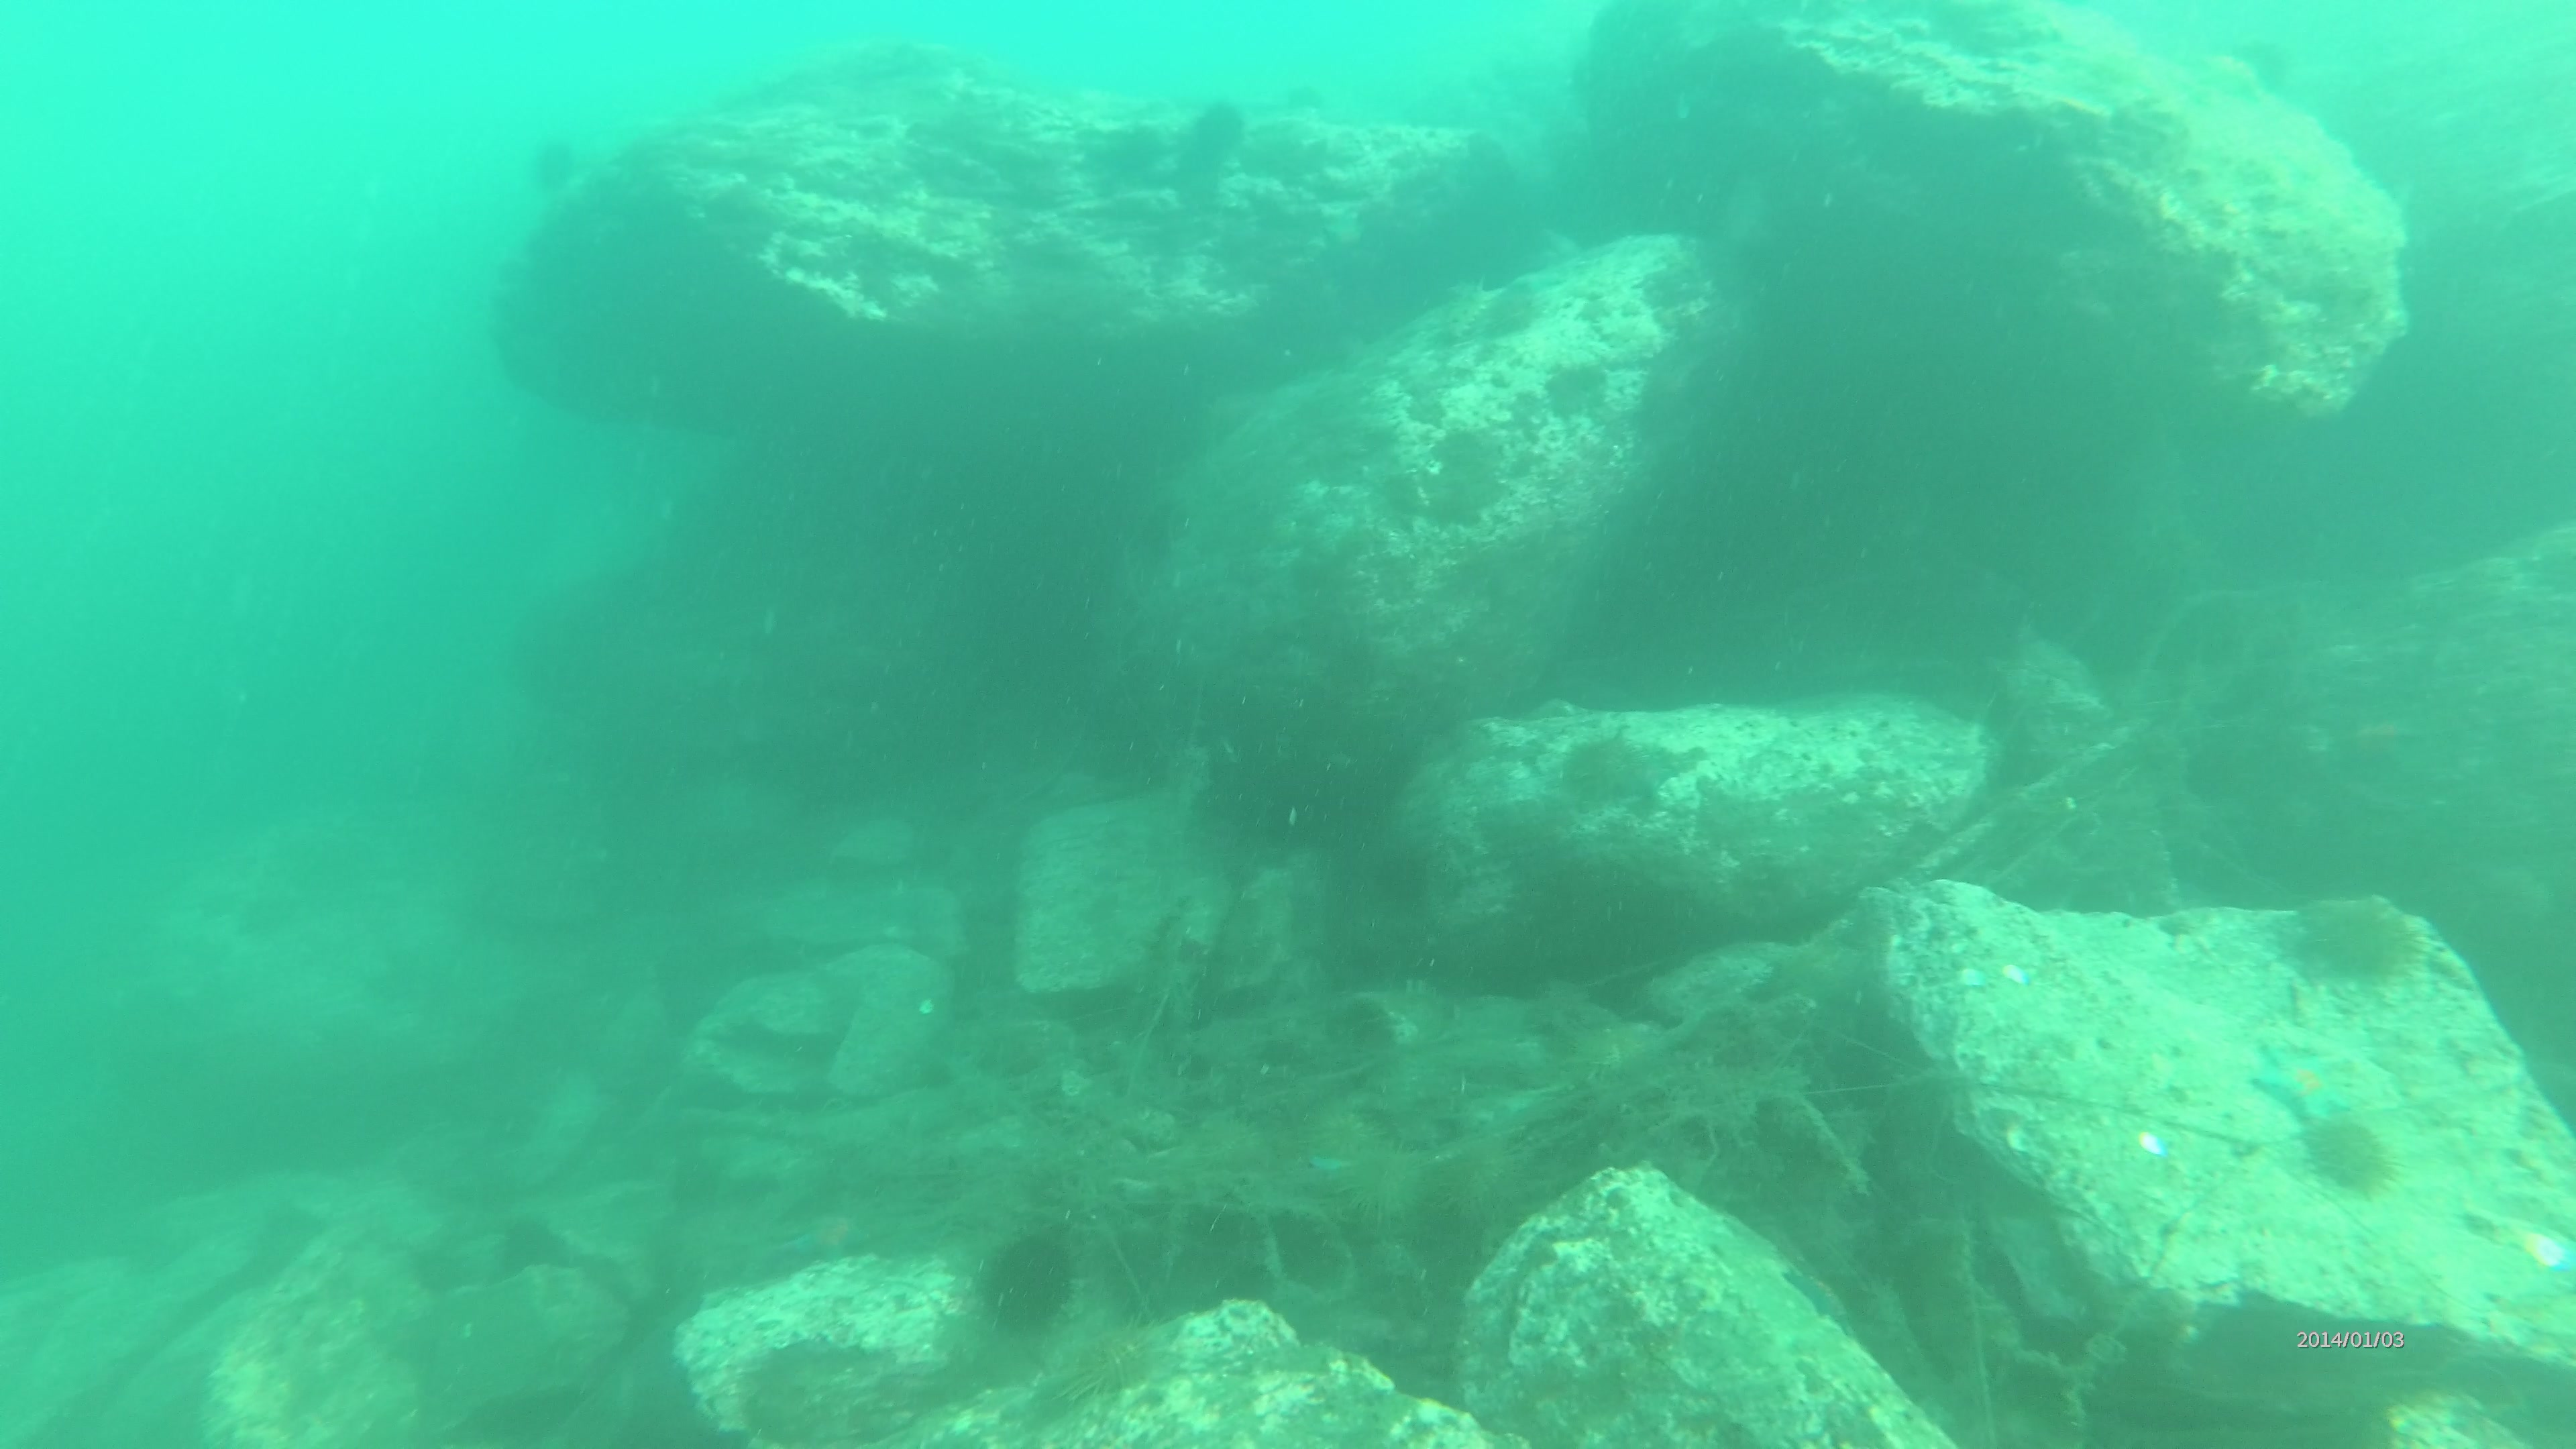echinus: (971, 1223, 1092, 1330), (2307, 897, 2429, 978), (2305, 1115, 2413, 1205), (1560, 732, 1663, 793), (520, 134, 587, 188), (1191, 97, 1244, 156)
holothurian: (1447, 272, 1497, 347)
starfish: (2254, 1037, 2353, 1118), (2344, 706, 2422, 771)
